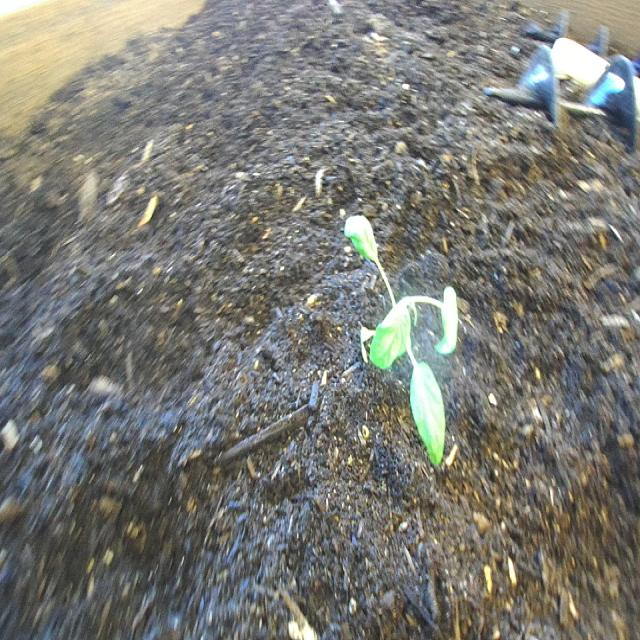Healthy: (334, 192, 494, 489)
